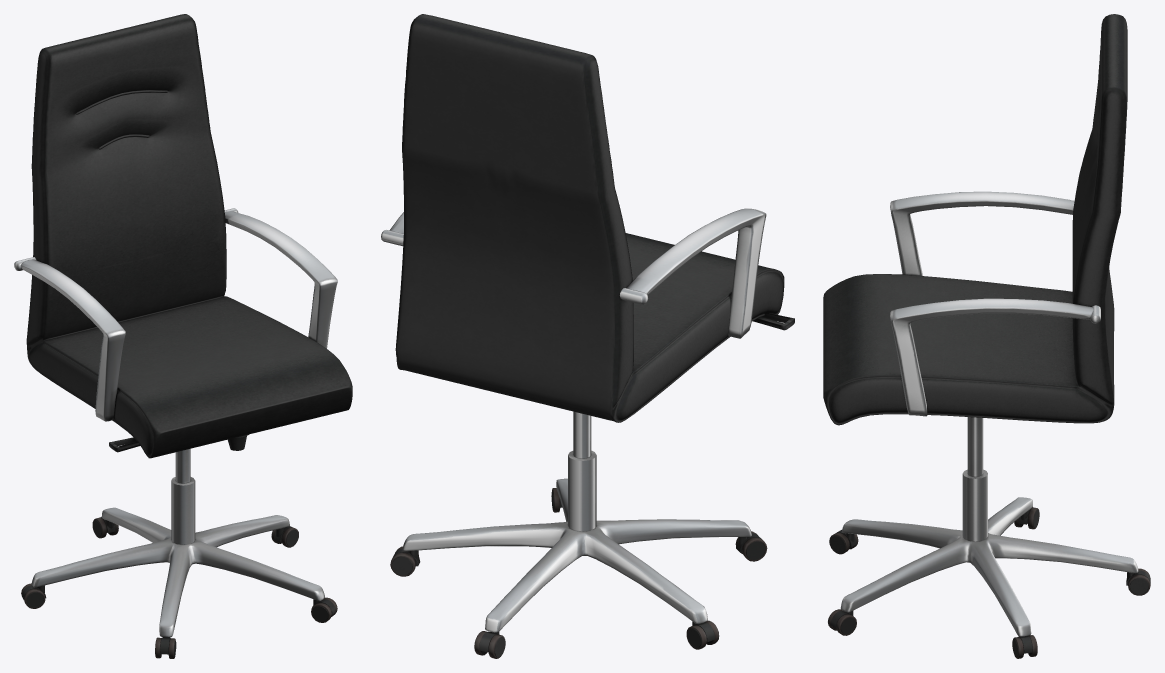
The model's file is youster_black_aluminium_polished.glb.
3 renders of one model, left to right at view 1: azimuth 30°, elevation 25°; view 2: azimuth 150°, elevation 25°; view 3: azimuth 270°, elevation 25°, orthographic. The views are drawn at different scales.
Parts seen in each view (by area): view 1: youster-black; view 2: youster-black; view 3: youster-black.
Part boxes in pixels (x1=…): youster-black: x1=14, y1=14, x2=352, y2=658; youster-black: x1=381, y1=14, x2=794, y2=658; youster-black: x1=823, y1=14, x2=1150, y2=658.
Bounding box in the file's own units: 0.67 × 1.2 × 0.6571.
1 material, 1 textured.
